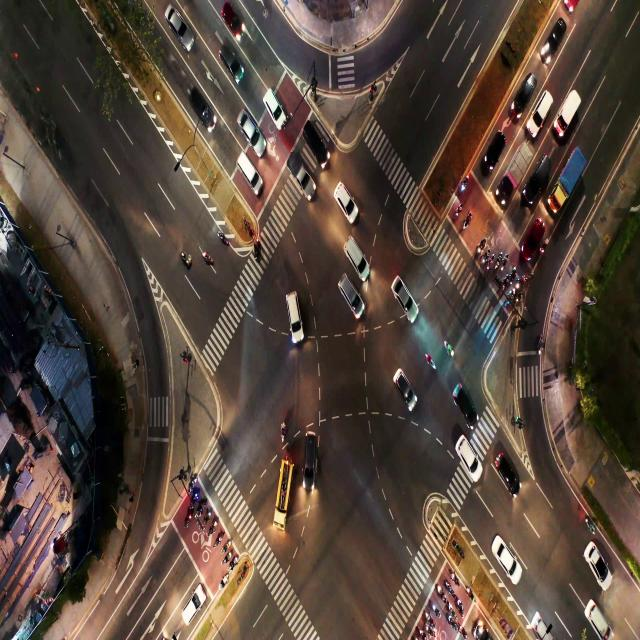bus: (276, 479, 288, 499)
car: (193, 86, 209, 118), (588, 548, 604, 574), (397, 285, 414, 308), (288, 297, 300, 329), (239, 159, 255, 182), (220, 49, 237, 70), (241, 112, 255, 137), (224, 9, 238, 33), (546, 28, 558, 55), (486, 136, 500, 158), (307, 126, 319, 151), (592, 608, 606, 629), (500, 544, 512, 568), (349, 241, 361, 264), (265, 92, 279, 110), (502, 452, 511, 479), (343, 281, 354, 303), (399, 374, 409, 398), (170, 13, 182, 32), (460, 388, 469, 413), (528, 228, 539, 248), (538, 99, 548, 120), (463, 442, 470, 463), (186, 600, 195, 616), (306, 442, 313, 461), (538, 619, 546, 635), (520, 87, 528, 103), (340, 190, 349, 204), (537, 168, 546, 182)
motorcycle: (218, 229, 228, 248), (424, 350, 434, 368), (182, 250, 191, 269), (281, 419, 287, 441), (444, 342, 453, 356), (253, 243, 259, 260), (204, 250, 210, 265), (588, 516, 594, 530), (184, 514, 191, 525), (524, 274, 530, 284), (452, 571, 458, 581), (457, 598, 462, 610), (223, 554, 230, 562), (418, 626, 423, 637), (432, 605, 438, 614), (464, 218, 469, 228), (425, 626, 432, 633), (542, 243, 548, 251), (448, 614, 452, 626), (192, 493, 197, 502), (231, 558, 236, 567), (495, 260, 500, 269), (437, 585, 442, 594), (478, 241, 482, 252), (425, 610, 429, 621), (466, 587, 472, 594), (221, 578, 226, 586), (488, 260, 492, 270), (502, 279, 506, 289), (508, 292, 513, 300), (225, 542, 230, 549), (515, 281, 520, 288), (200, 504, 204, 512), (218, 534, 222, 542), (463, 182, 467, 190), (516, 295, 520, 303), (445, 581, 449, 589), (510, 272, 513, 282), (190, 479, 194, 486), (210, 525, 214, 532), (456, 208, 460, 215), (461, 626, 464, 635), (502, 261, 506, 267), (448, 602, 452, 608), (206, 513, 209, 520), (484, 255, 486, 261)
truck: (563, 161, 583, 183), (294, 158, 308, 184), (561, 100, 575, 120), (511, 158, 521, 177)
